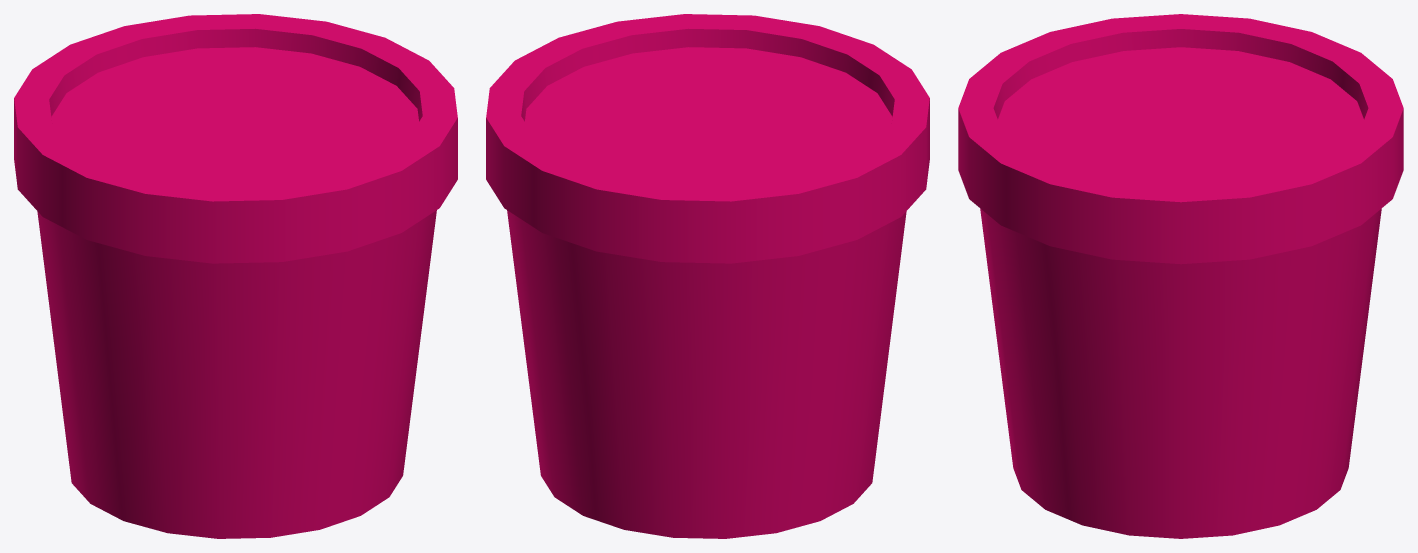
File: Plant_Pot_02_Lod0.fbx
3 views of the same model, side by side, from view 1: azimuth 30°, elevation 25°; view 2: azimuth 150°, elevation 25°; view 3: azimuth 270°, elevation 25° (orthographic).
Parts seen in each view (by area): view 1: Plant_Pot_02_Lod0; view 2: Plant_Pot_02_Lod0; view 3: Plant_Pot_02_Lod0.
Part boxes in pixels (box(x1,y1,x2,y2)): Plant_Pot_02_Lod0: box(14, 14, 457, 538); Plant_Pot_02_Lod0: box(486, 14, 929, 538); Plant_Pot_02_Lod0: box(958, 14, 1403, 538).
Bounding box in the file's own units: 39.32 × 35.07 × 39.32.
